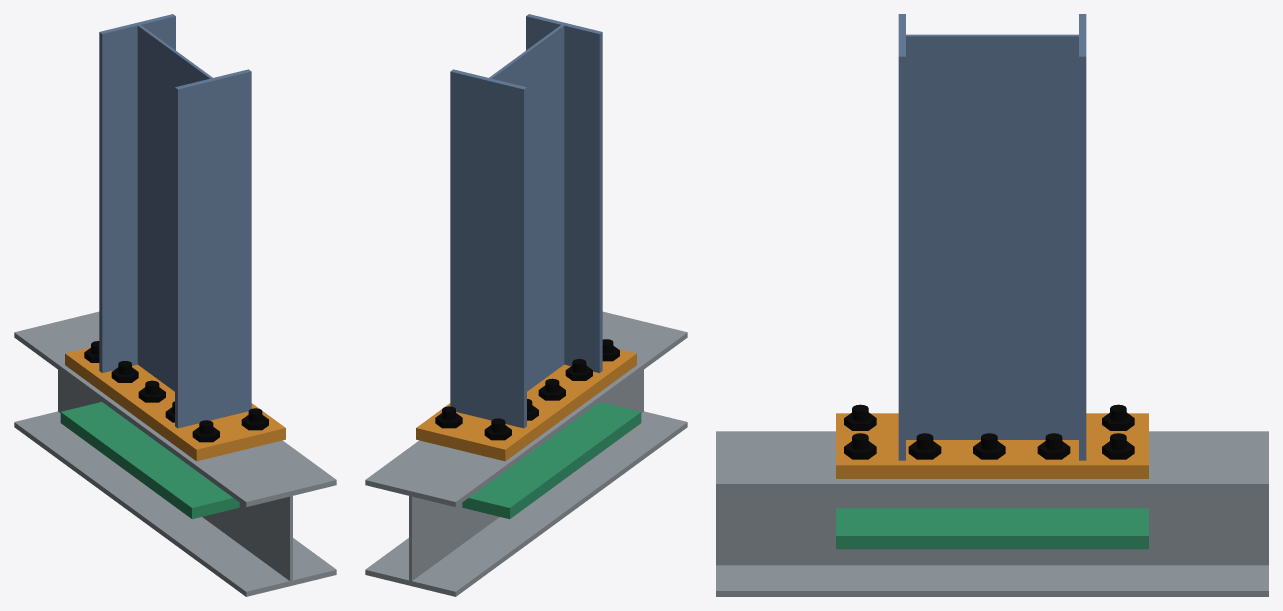
Rendered from detail_A2_beam_to_column_flange_connection.obj.
3 views of the same model, side by side, from view 1: azimuth 30°, elevation 25°; view 2: azimuth 150°, elevation 25°; view 3: azimuth 270°, elevation 25° (orthographic). The views are drawn at different scales.
Visible parts, largest first — view 1: A2_beam_to_column_flange_top_flange, A2_beam_to_column_flange_bottom_flange, A2_beam_to_column_flange_web, A2_UC203x203_column_flange_near, A2_UC203x203_column_flange_far, A2_PL8_column_stiffener, A2_PL25_end_plate_200x510, A2_UC203x203_column_web, bolt_M27_A2_10, bolt_M27_A2_9, bolt_M27_A2_5, bolt_M27_A2_3; view 2: A2_beam_to_column_flange_bottom_flange, A2_beam_to_column_flange_top_flange, A2_beam_to_column_flange_web, A2_UC203x203_column_flange_near, A2_UC203x203_column_flange_far, A2_PL8_column_stiffener, A2_PL25_end_plate_200x510, A2_UC203x203_column_web, bolt_M27_A2_1, bolt_M27_A2_2, bolt_M27_A2_5, bolt_M27_A2_7; view 3: A2_beam_to_column_flange_web, A2_UC203x203_column_web, A2_UC203x203_column_flange_near, A2_UC203x203_column_flange_far, A2_PL8_column_stiffener, A2_PL25_end_plate_200x510, A2_beam_to_column_flange_top_flange, A2_beam_to_column_flange_bottom_flange.
Part boxes in pixels (x1,y1,x2,y2): A2_beam_to_column_flange_top_flange: (175,69,251,428); A2_beam_to_column_flange_bottom_flange: (99,14,175,372); A2_beam_to_column_flange_web: (137,25,212,391); A2_UC203x203_column_flange_near: (14,411,336,596); A2_UC203x203_column_flange_far: (14,311,336,507); A2_PL8_column_stiffener: (60,402,239,519); A2_PL25_end_plate_200x510: (65,347,285,461); A2_UC203x203_column_web: (58,370,292,580); bolt_M27_A2_10: (241,408,268,430); bolt_M27_A2_9: (192,420,219,442); bolt_M27_A2_5: (138,380,165,402); bolt_M27_A2_3: (111,361,138,382); A2_beam_to_column_flange_bottom_flange: (450,69,526,428); A2_beam_to_column_flange_top_flange: (526,14,602,372); A2_beam_to_column_flange_web: (489,25,564,391); A2_UC203x203_column_flange_near: (365,411,687,596); A2_UC203x203_column_flange_far: (365,311,687,507); A2_PL8_column_stiffener: (462,402,641,519); A2_PL25_end_plate_200x510: (416,349,636,461); A2_UC203x203_column_web: (409,370,643,580); bolt_M27_A2_1: (484,418,511,440); bolt_M27_A2_2: (435,406,462,428); bolt_M27_A2_5: (538,378,565,400); bolt_M27_A2_7: (565,359,592,380); A2_beam_to_column_flange_web: (906,34,1078,439); A2_UC203x203_column_web: (716,490,1268,565); A2_UC203x203_column_flange_near: (716,565,1268,596); A2_UC203x203_column_flange_far: (716,431,1268,489); A2_PL8_column_stiffener: (836,508,1148,549); A2_PL25_end_plate_200x510: (836,413,1148,478); A2_beam_to_column_flange_top_flange: (898,14,905,460); A2_beam_to_column_flange_bottom_flange: (1079,14,1086,460).
Size of the model in its own units: 220 by 962 by 900.
